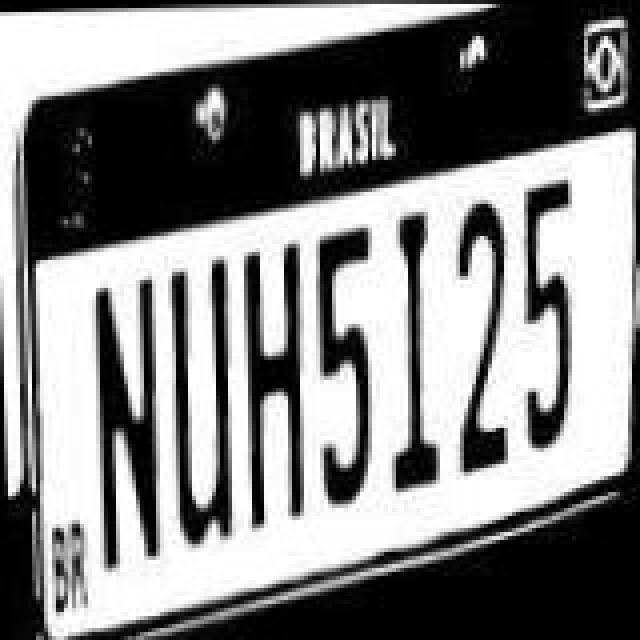2: (440, 168, 520, 456)
5: (306, 198, 382, 486), (516, 156, 588, 428)
H: (232, 218, 316, 510)
I: (374, 180, 450, 472)
N: (86, 254, 170, 566)
U: (156, 234, 240, 538)
